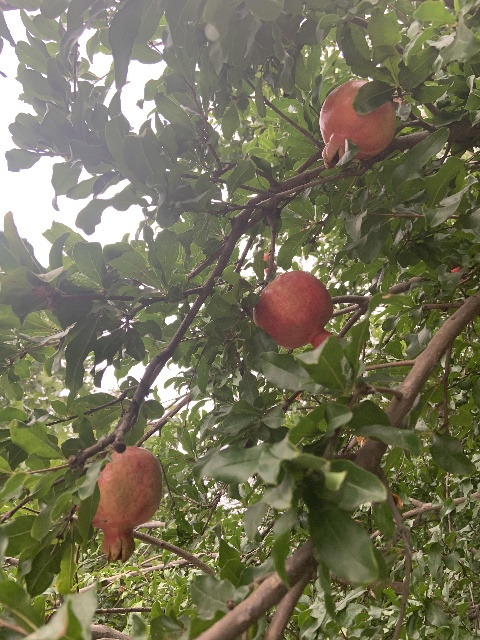ripe: (90, 445, 162, 563), (319, 80, 396, 168), (253, 270, 333, 350)
